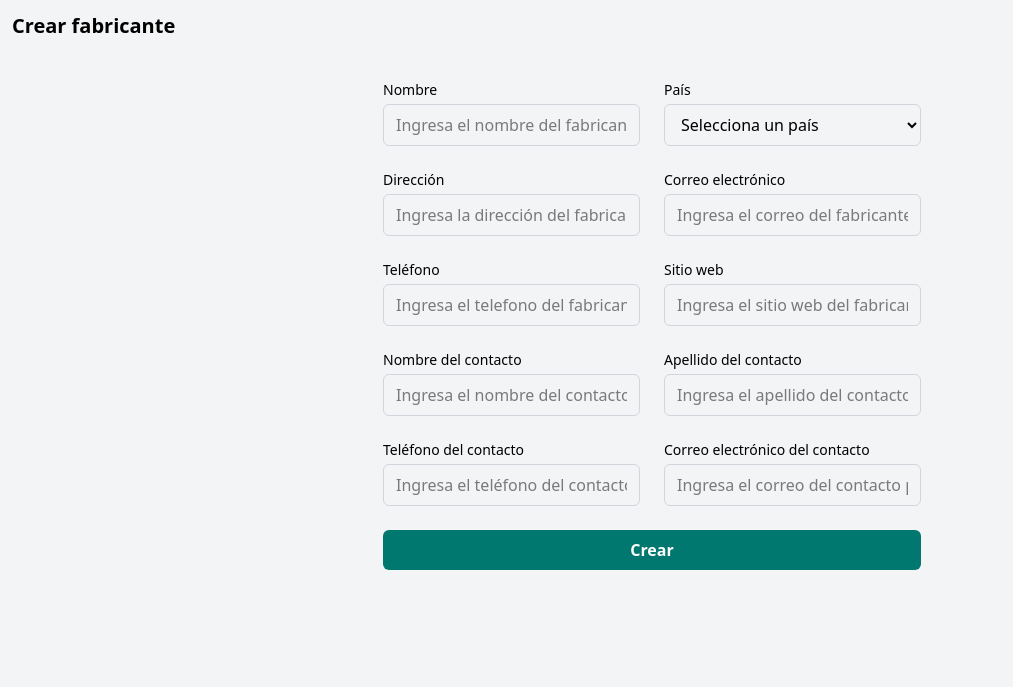
it: Componente CrearFabricante › debería mostrar errores de validación al enviar el formulario vacío
Click the button "Crear". click: (652, 550)
box: [383, 530, 921, 570]
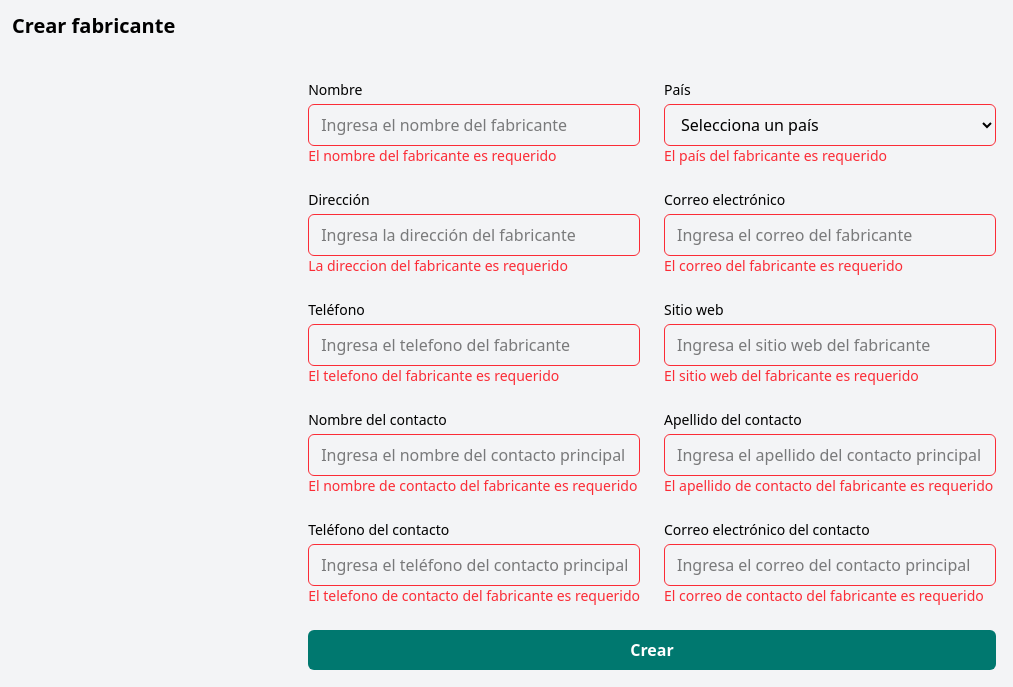
expect the text "El nombre del fabricante es requerido" is shown: met, box [308, 146, 557, 165]
expect the text "El país del fabricante es requerido" is shown: met, box [664, 146, 887, 165]
expect the text "La direccion del fabricante es requerido" is shown: met, box [308, 256, 568, 275]
